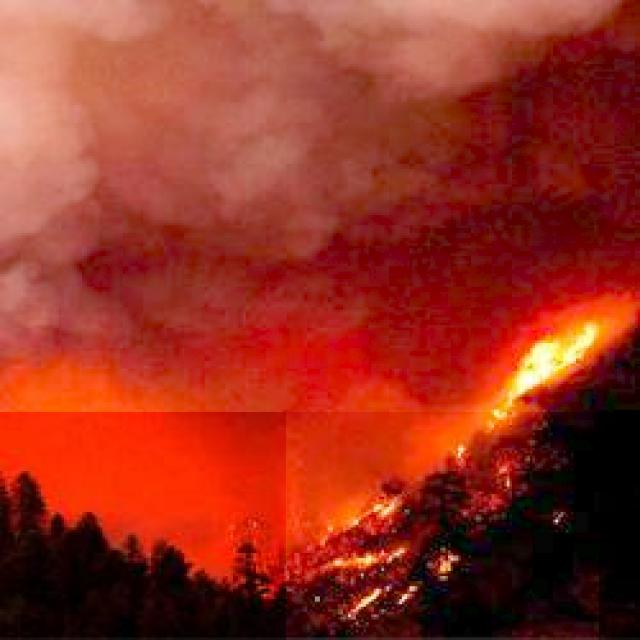Fire: (286, 302, 599, 640)
Smoke: (0, 0, 640, 412)
